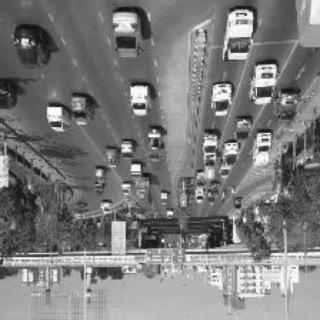other: (91, 138, 148, 192), (123, 82, 154, 122), (70, 92, 89, 136)
